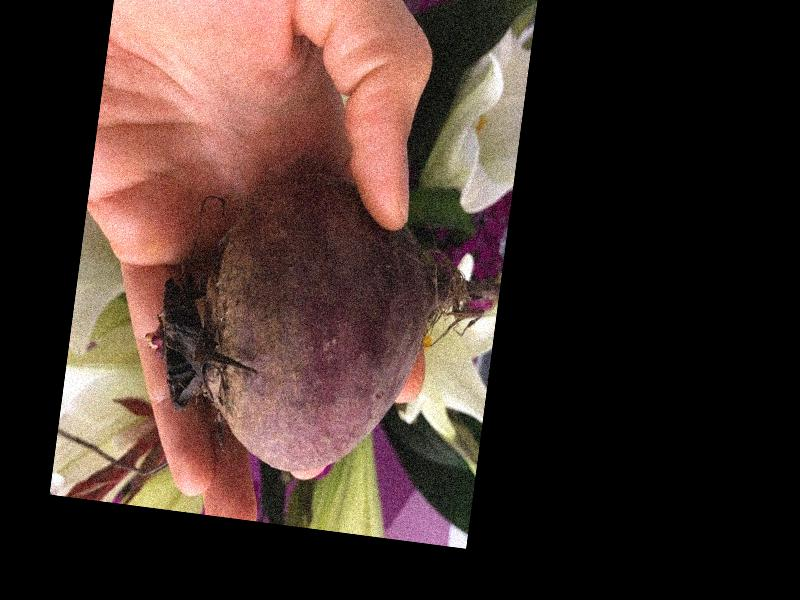Beet: (132, 155, 509, 496)
